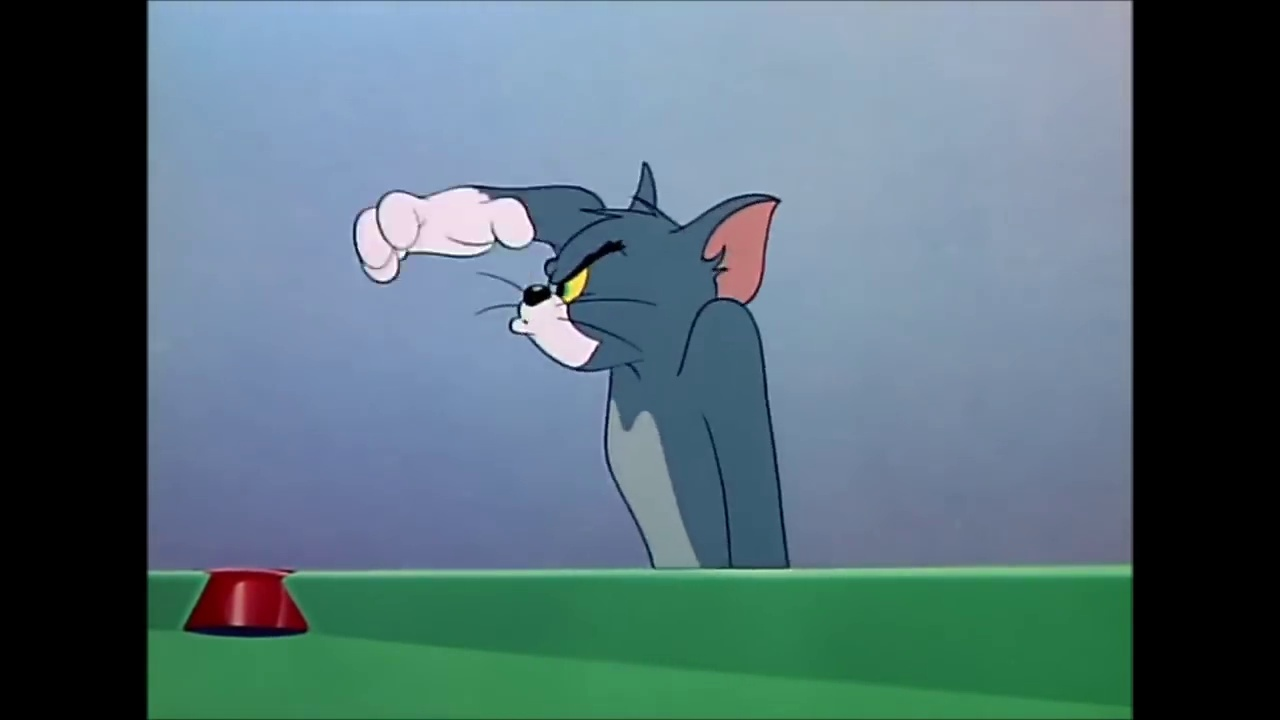angry: (512, 231, 633, 370)
